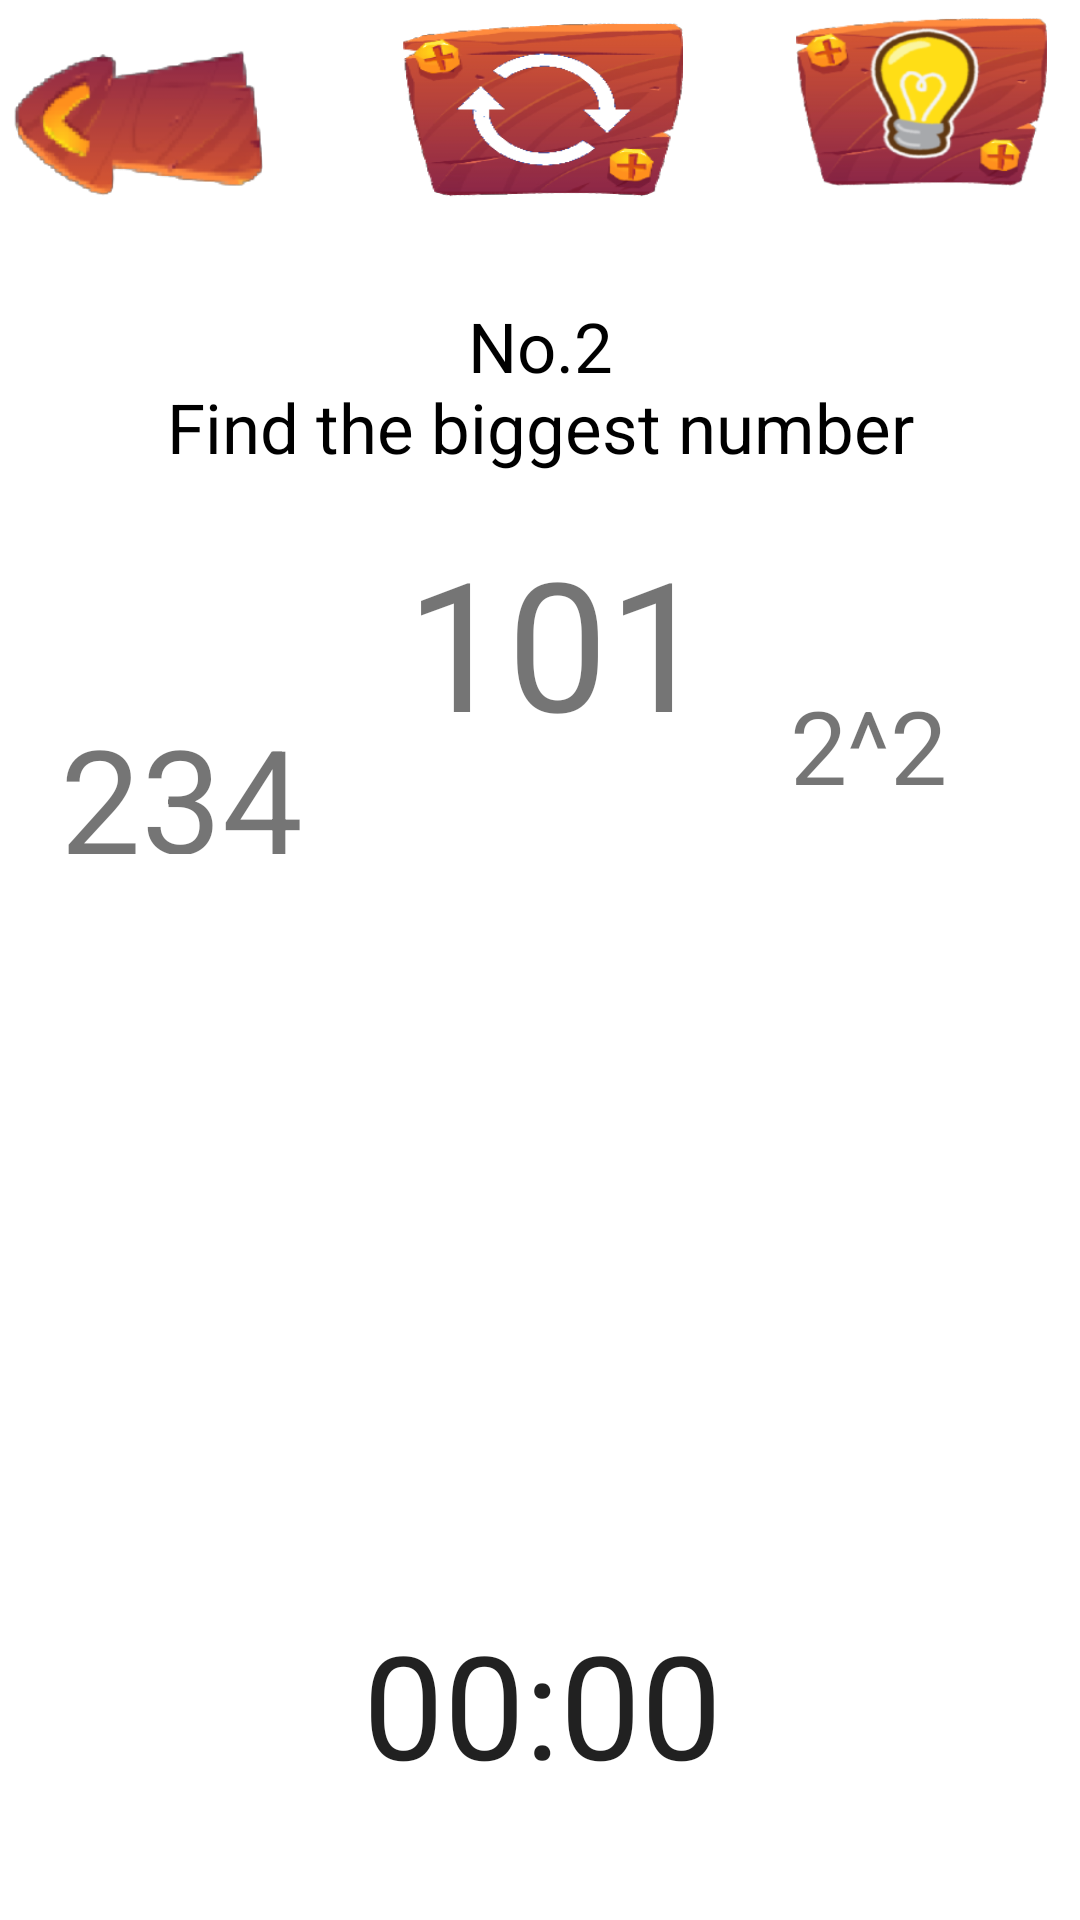

Screen size 1080*1920. Icon name, then its center in pixels as [x,y]:
hint: [921,102]
restart: [543,109]
